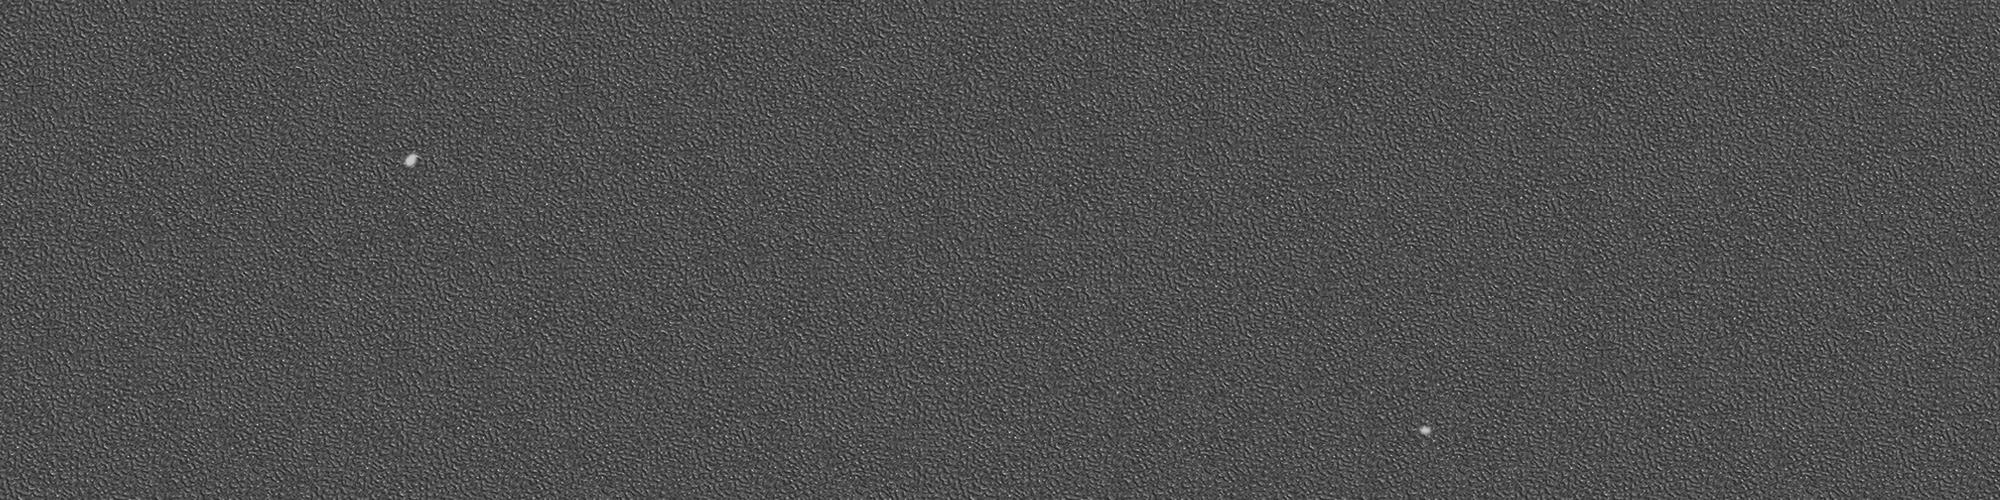Particles: (398, 151, 423, 172), (1413, 421, 1437, 441)
